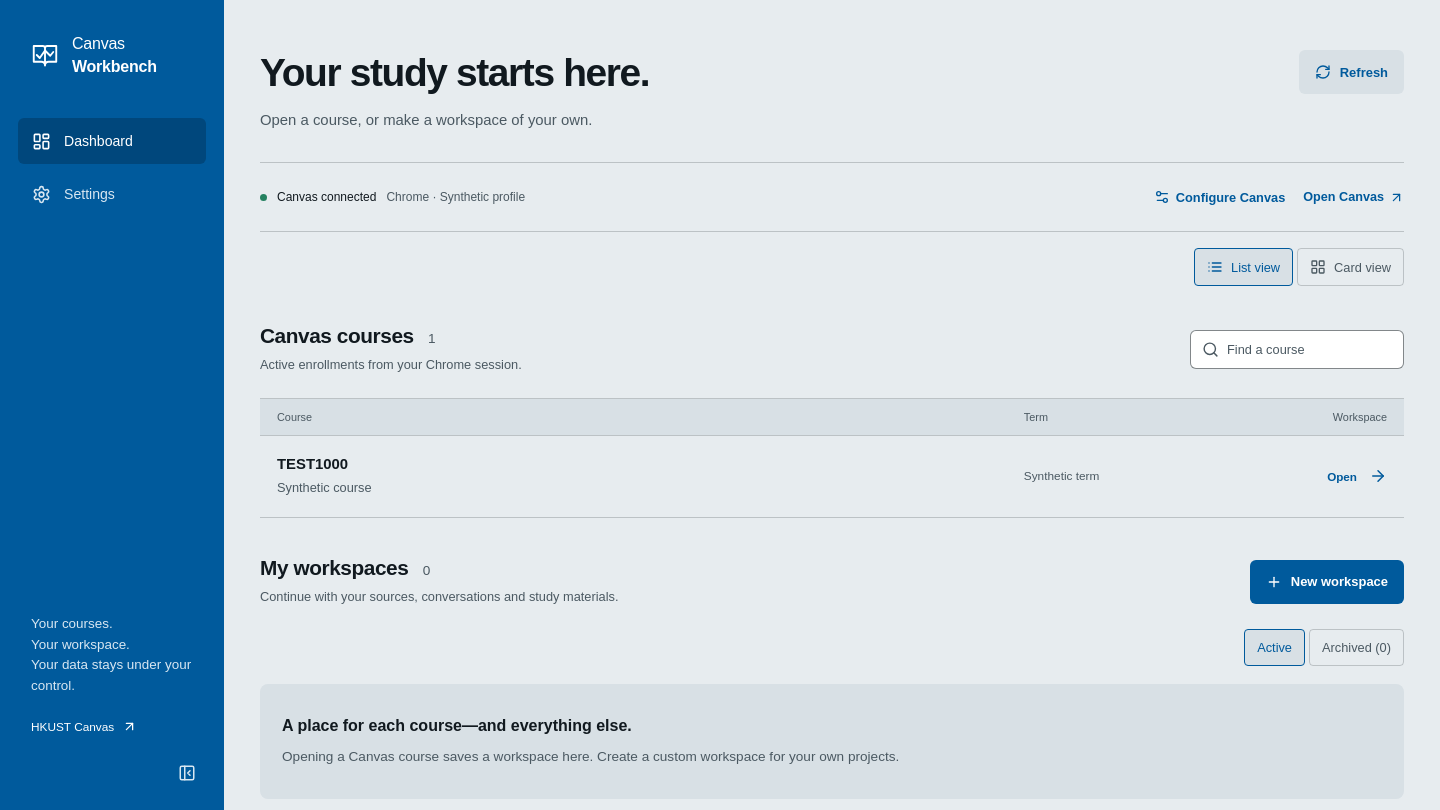
Local workbench foundation › lists real API courses and filters without additional remote requests
Check: the text "TEST1000" is shown, box [277,456,348,472]
In the search field labelled "Find a course": (1310, 350) [1227,331,1392,368], type "missing"
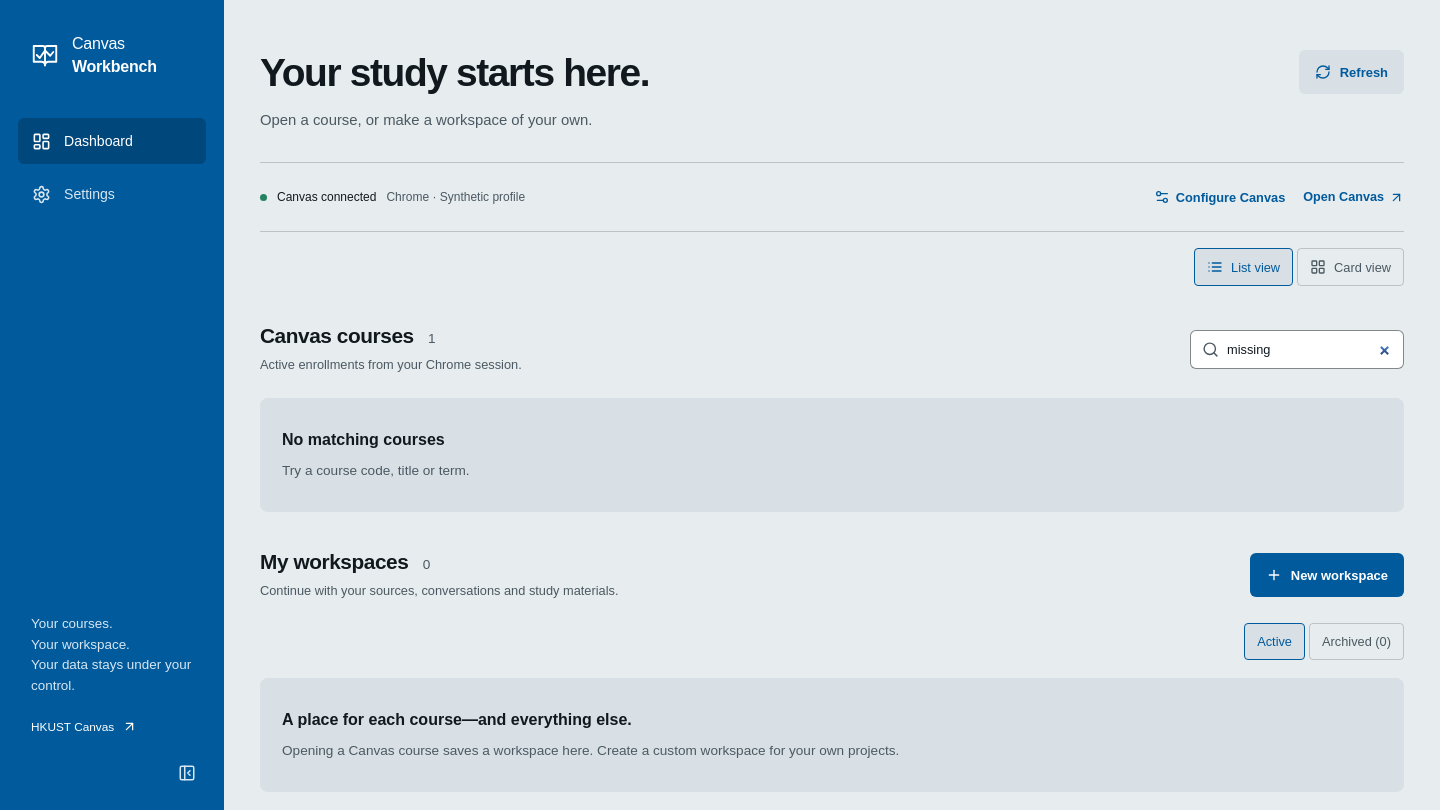
Check: the heading "No matching courses" is shown, box [282,430,445,448]
